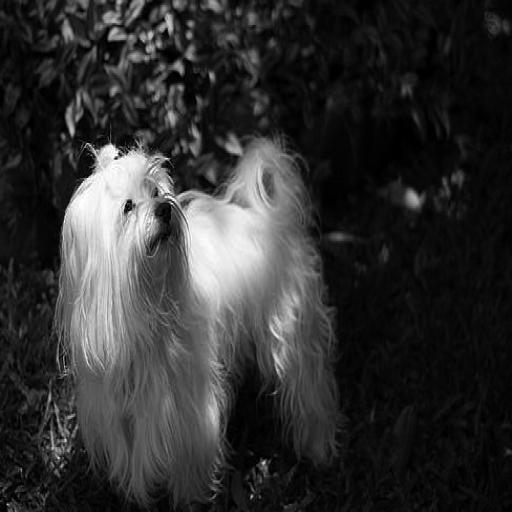dog_face: (58, 141, 172, 290)
